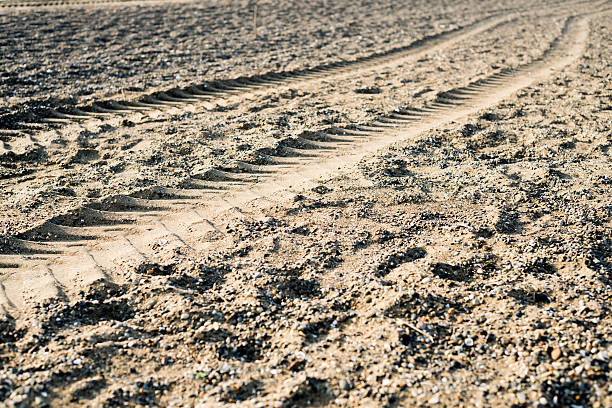vehicle_track: (0, 15, 588, 313), (0, 9, 532, 137)
